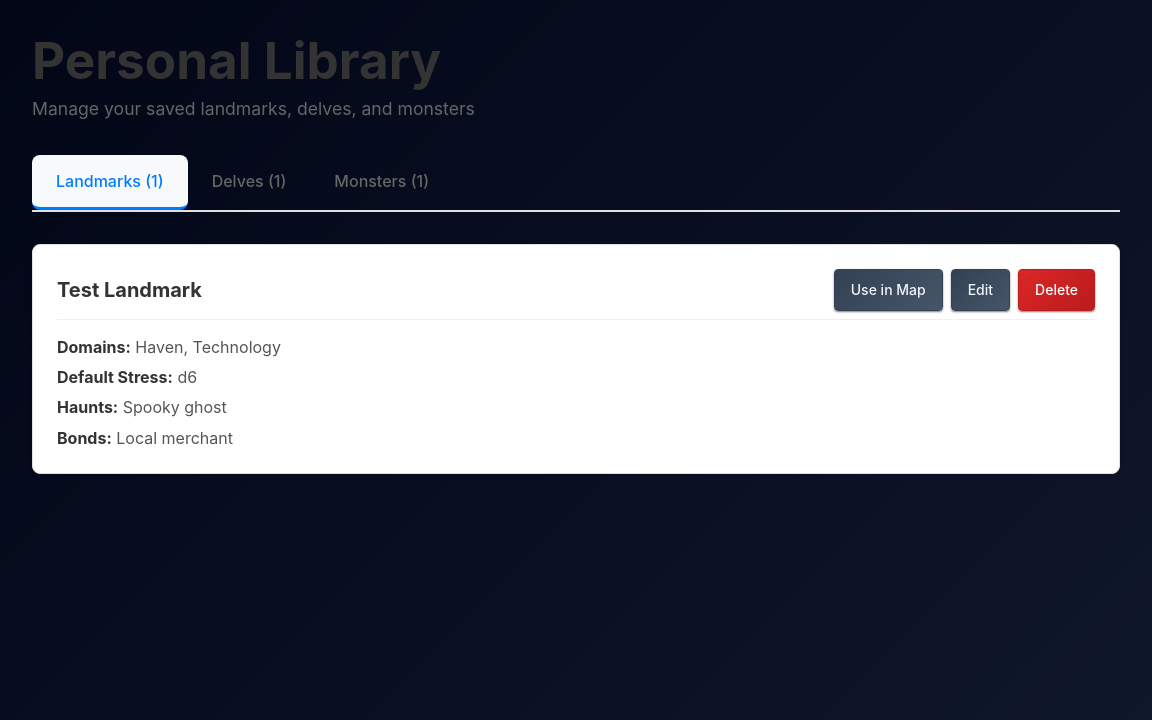
Scenario: LibraryPage Integration › integrates with localStorage and displays saved items
The width and height of the screenshot is (1152, 720).
expect the heading "Test Landmark" is shown: met, box top-left (57, 275), bottom-right (202, 305)
expect the button "Landmarks (1)" is shown: met, box top-left (32, 155), bottom-right (188, 210)
# Switch to delves tab
What coordinates should you click on to do the following:
click the button "Delves (1)"
I would click on:
 (249, 182)
Its box is top-left (188, 155), bottom-right (310, 210).
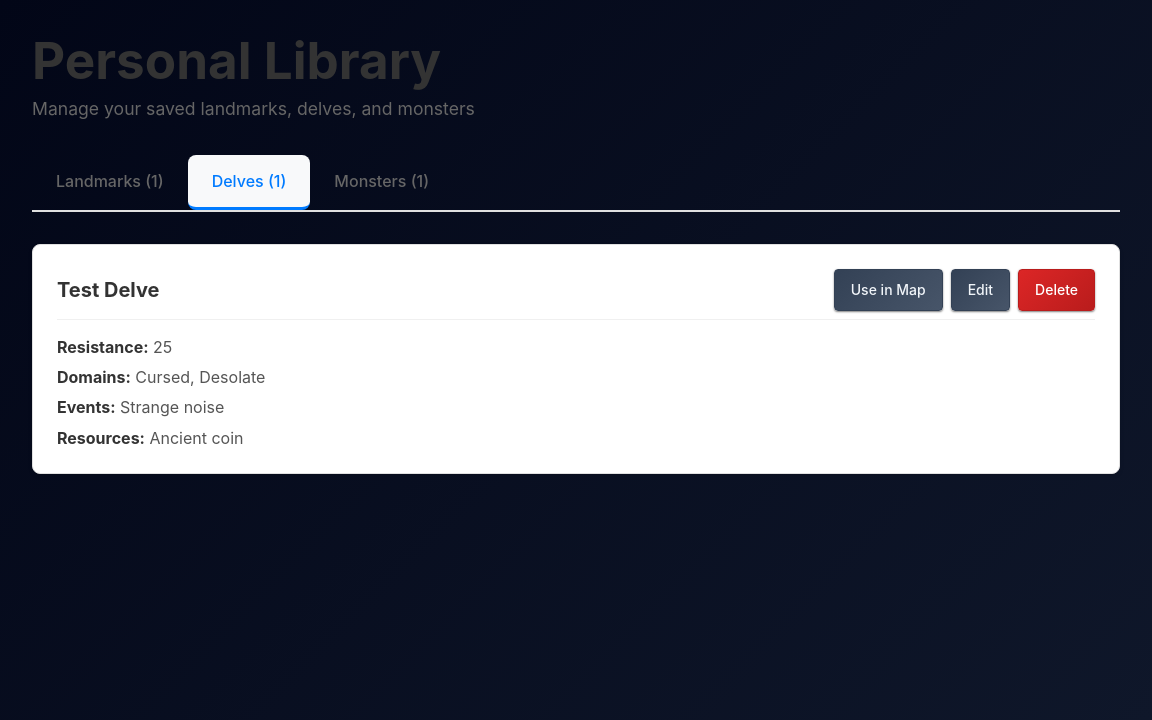
expect the heading "Test Delve" is shown: met, box top-left (57, 275), bottom-right (160, 305)
# Switch to monsters tab
What coordinates should you click on to do the following:
click the button "Monsters (1)"
I would click on:
 (382, 182)
Its box is top-left (310, 155), bottom-right (453, 210).
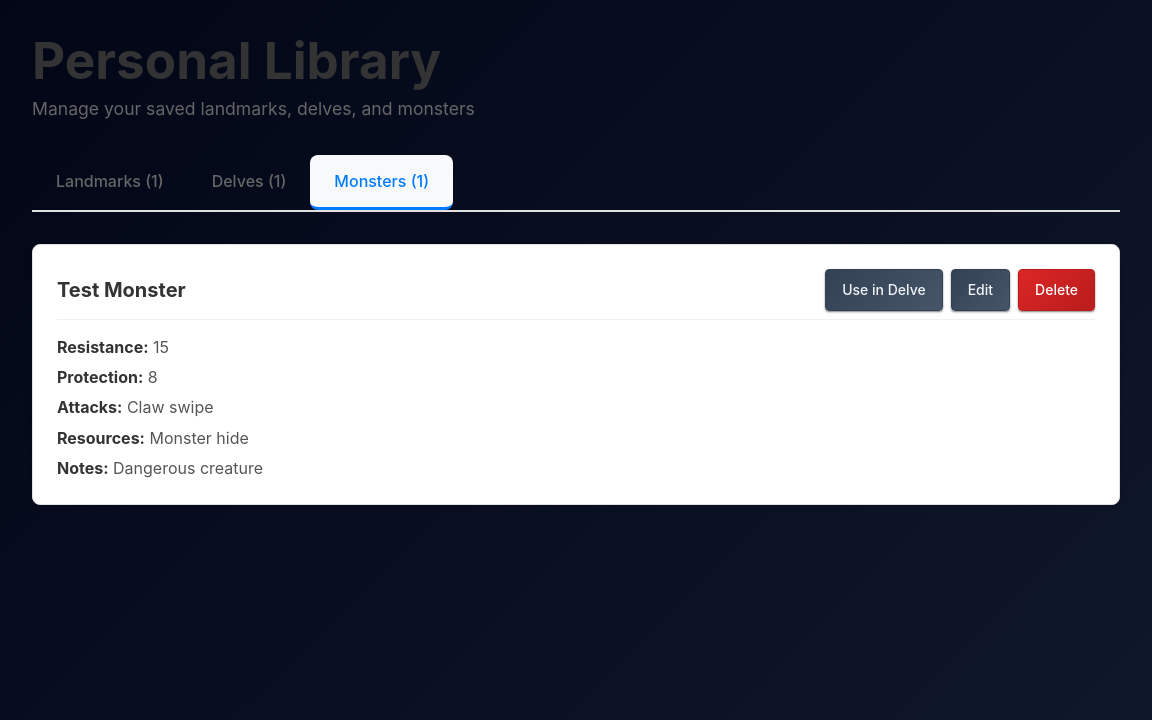
expect the heading "Test Monster" is shown: met, box top-left (57, 275), bottom-right (186, 305)
